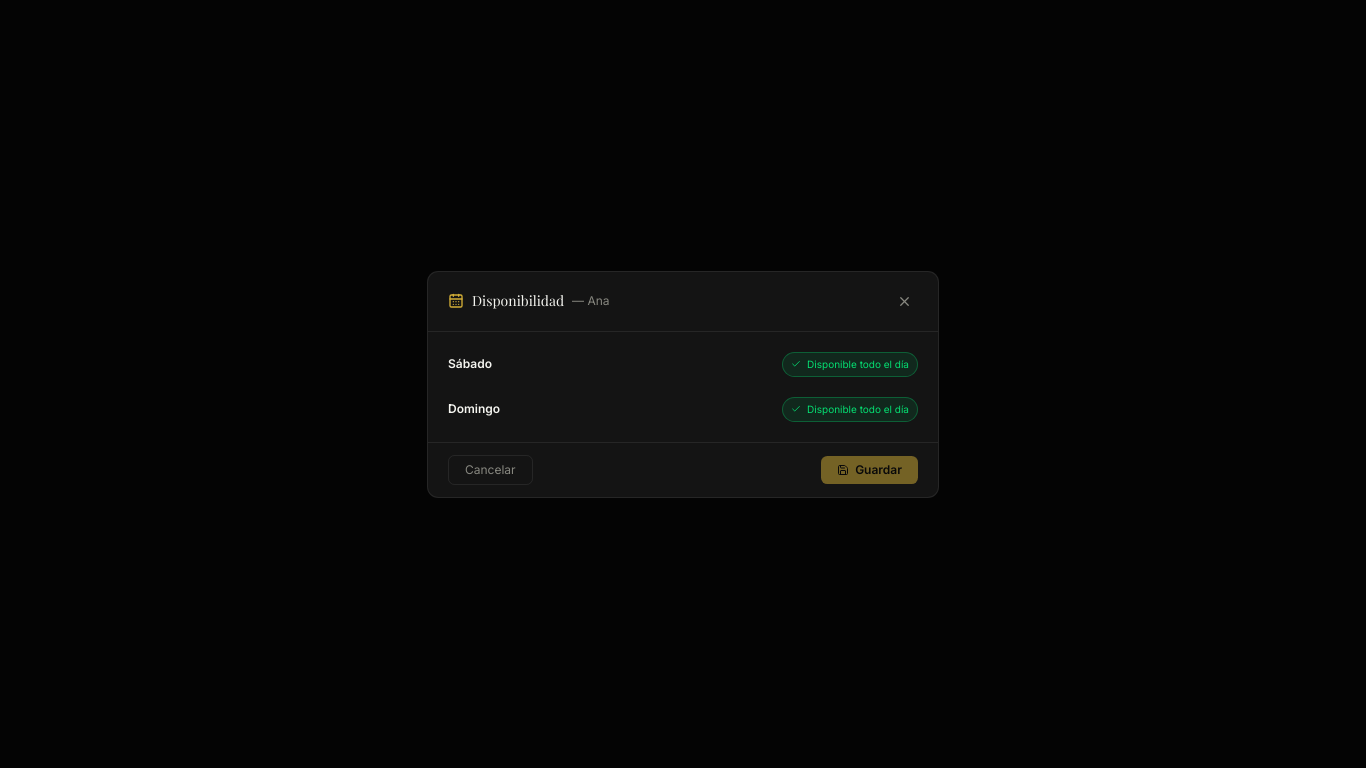
AvailabilityModal con las jornadas del torneo › con todo dado, al editar «Guardar» está desactivado hasta que se cambie algo
The width and height of the screenshot is (1366, 768).
Expected: the button "Guardar" is disabled, [821, 456, 918, 484]
Click the button "Disponible todo el día" in the row of "Sábado".
click(850, 364)  # box [782, 352, 918, 376]
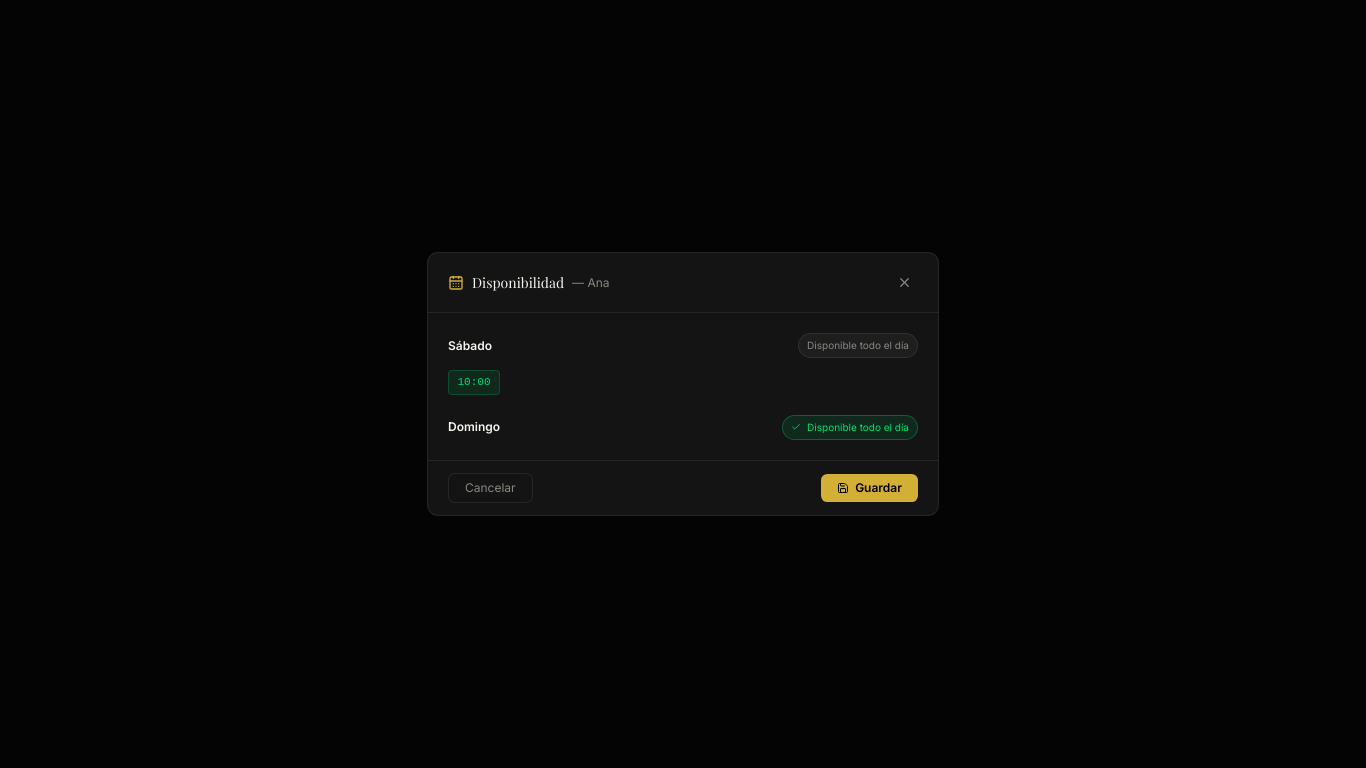
Now the button "Guardar" is enabled, box [821, 474, 918, 502]
